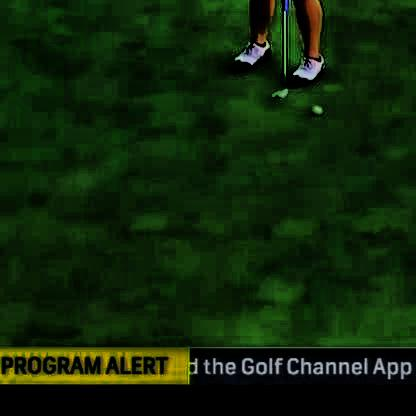golfball: (307, 102, 320, 113)
